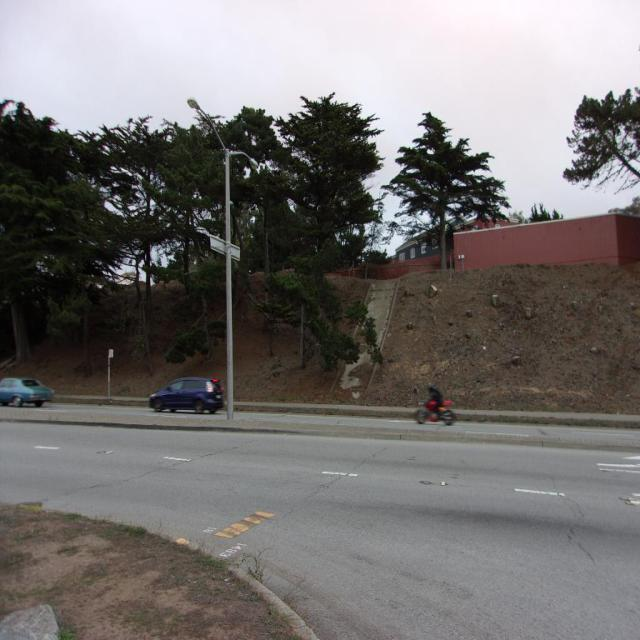car: (144, 366, 224, 419)
